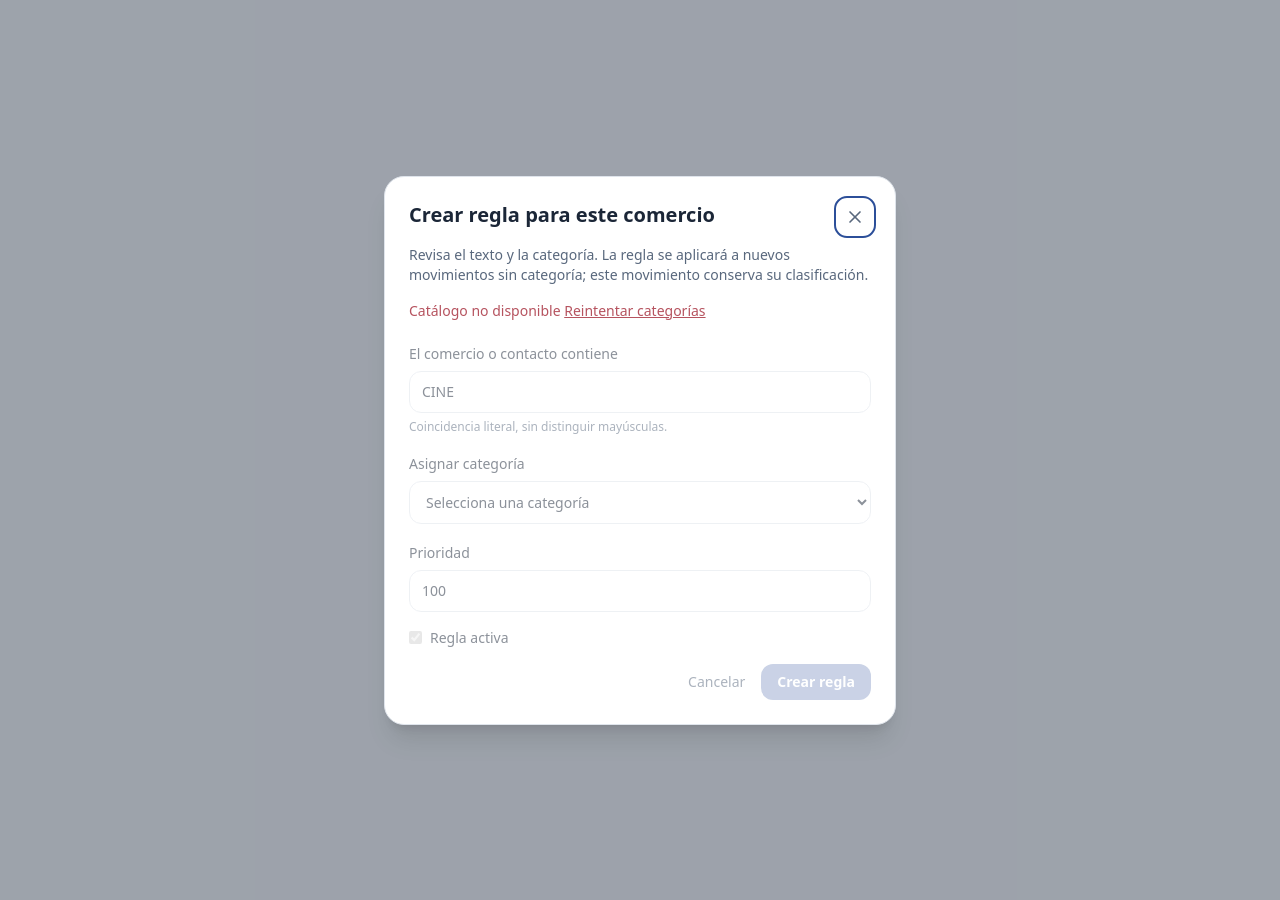
Scenario: blocks saving when the catalog fails and allows retry without losing the draft
Expected: the message "Catálogo no disponible Reintentar categorías" is shown, x1=409 y1=300 x2=706 y2=320
Expected: the button "Crear regla" is disabled, x1=761 y1=664 x2=871 y2=700
Click the button "Reintentar categorías": [635, 310] box x1=564 y1=300 x2=706 y2=320
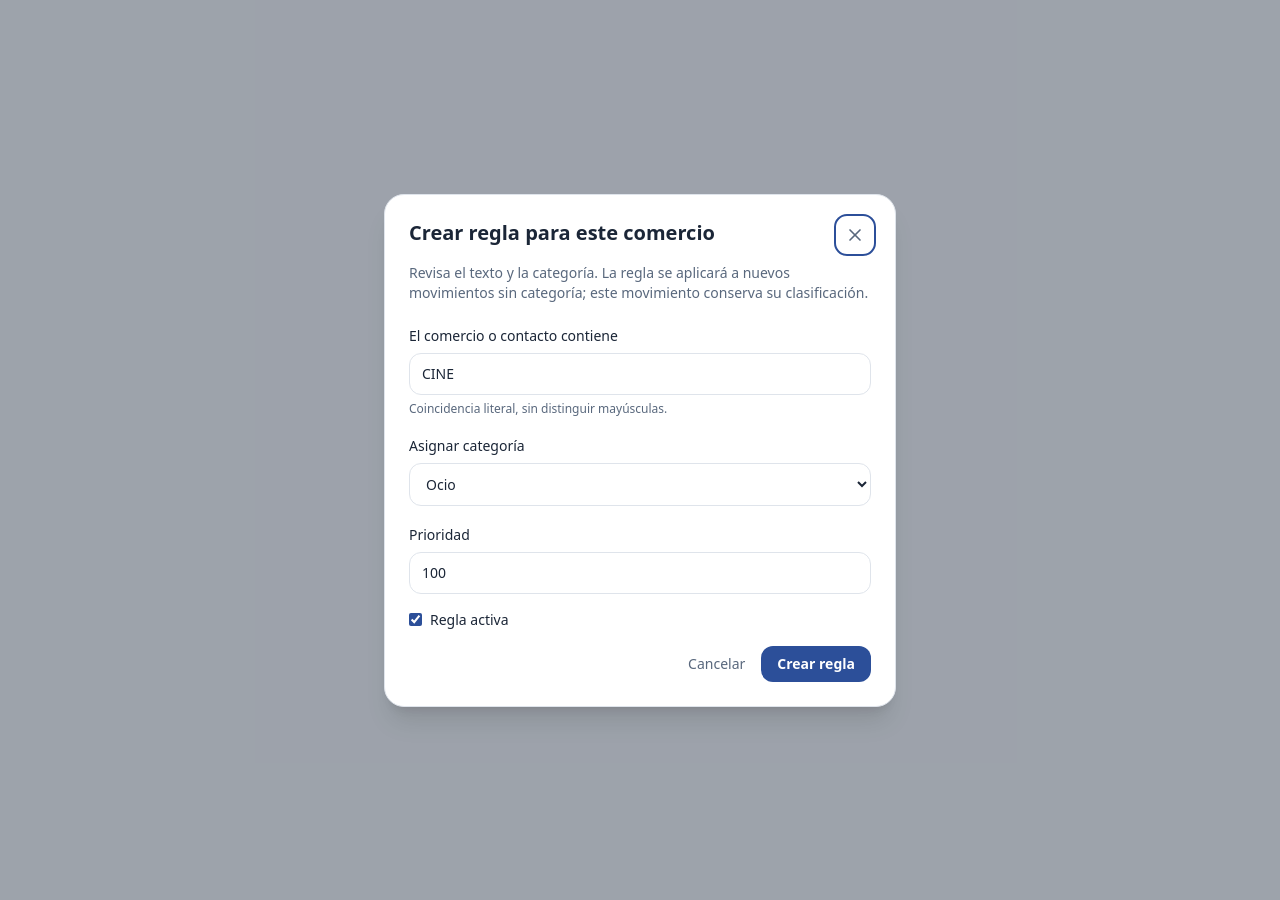
Expected: the field labelled "El comercio o contacto contiene" holds "CINE", x1=409 y1=352 x2=871 y2=394
Expected: the dropdown labelled "Asignar categoría" shows "Ocio", x1=409 y1=462 x2=871 y2=506
